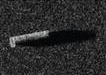mine: (8, 29, 99, 47)
